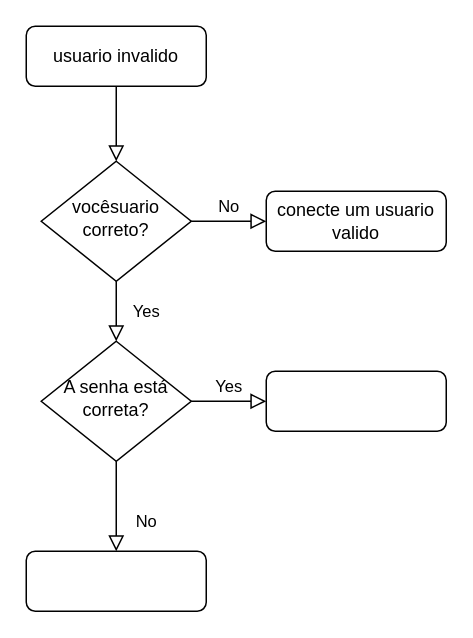
Image size: 473x638. Some labels were removed from this diagram. The shapes that lost their labels are listed below. From the top down, each one's centre as x and y in pixels, then its label:
(355,400): logar usuario
(115,580): verefique usuario e senha
